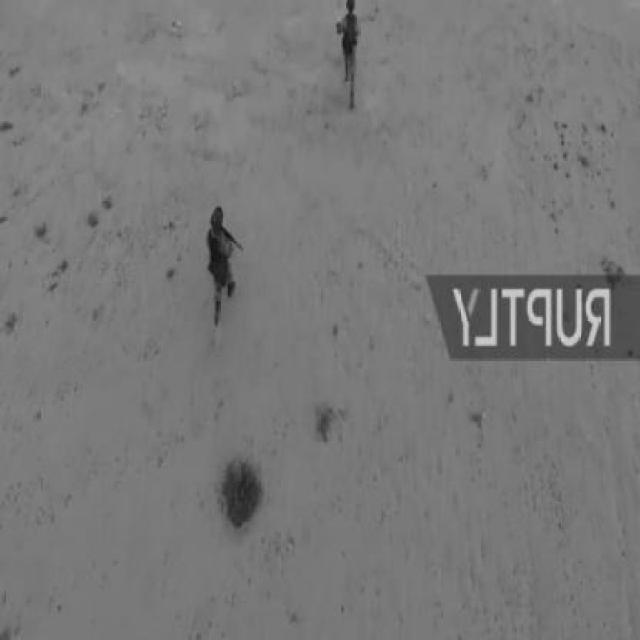Person: (207, 206, 243, 329), (337, 1, 368, 110)
